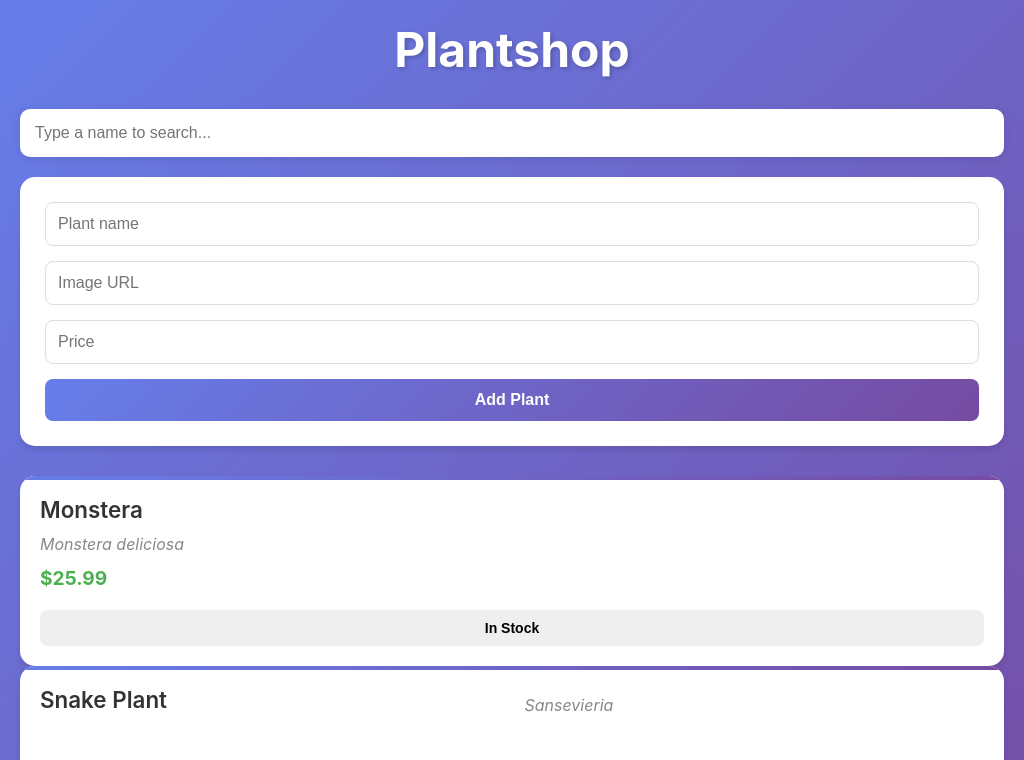
Test: App › creates a new plant
expect the heading "Monstera" is shown: met, box 40,496 -> 143,523
Type "Pothos" into the field with placeholder "Plant name" at (512, 224), box 45,202 -> 979,246
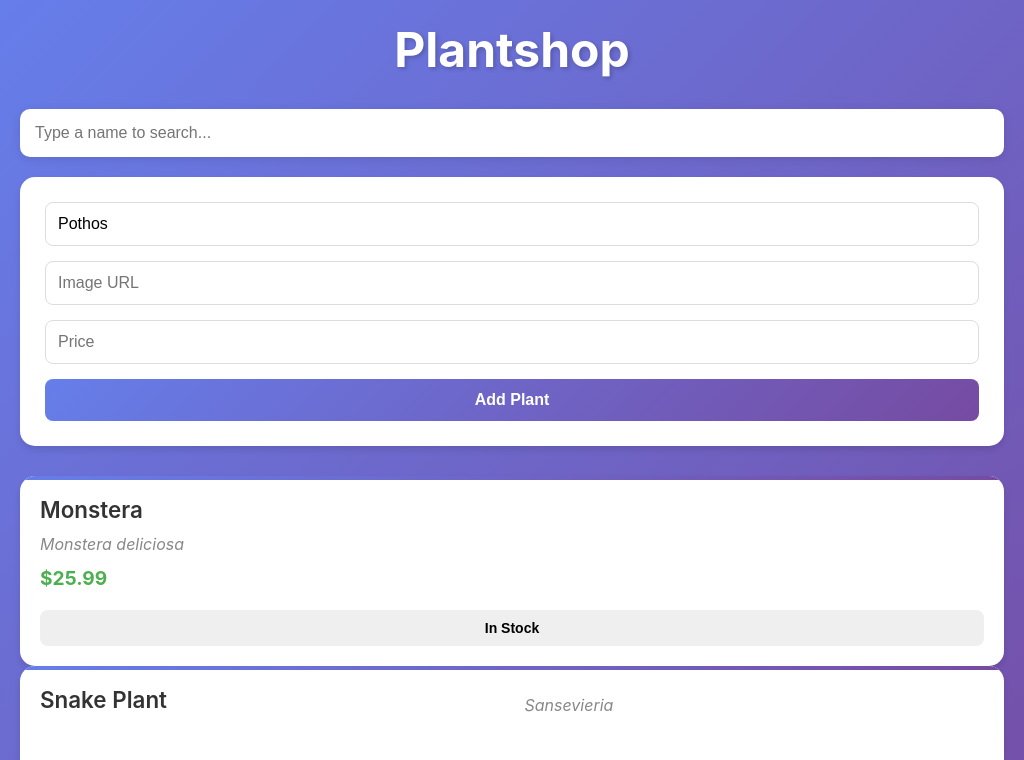
Type "12.99" into the field with placeholder "Price" at (512, 342), box 45,320 -> 979,364
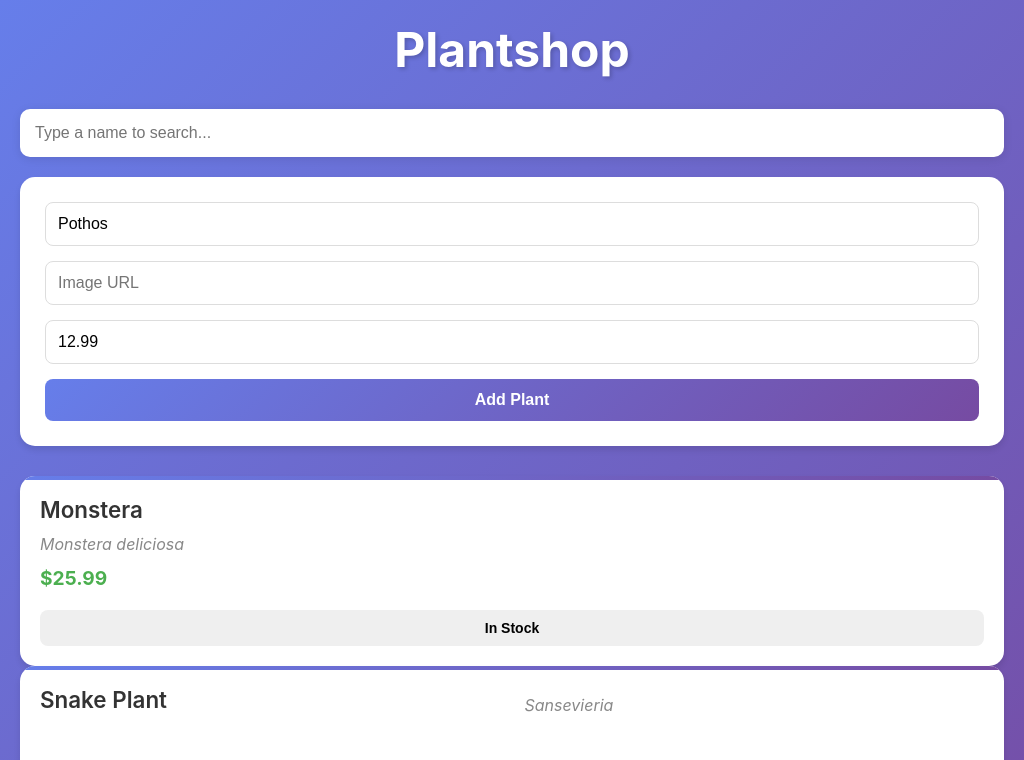
Click the button "Add Plant" at (512, 400), box 45,379 -> 979,421
(page scrolled)
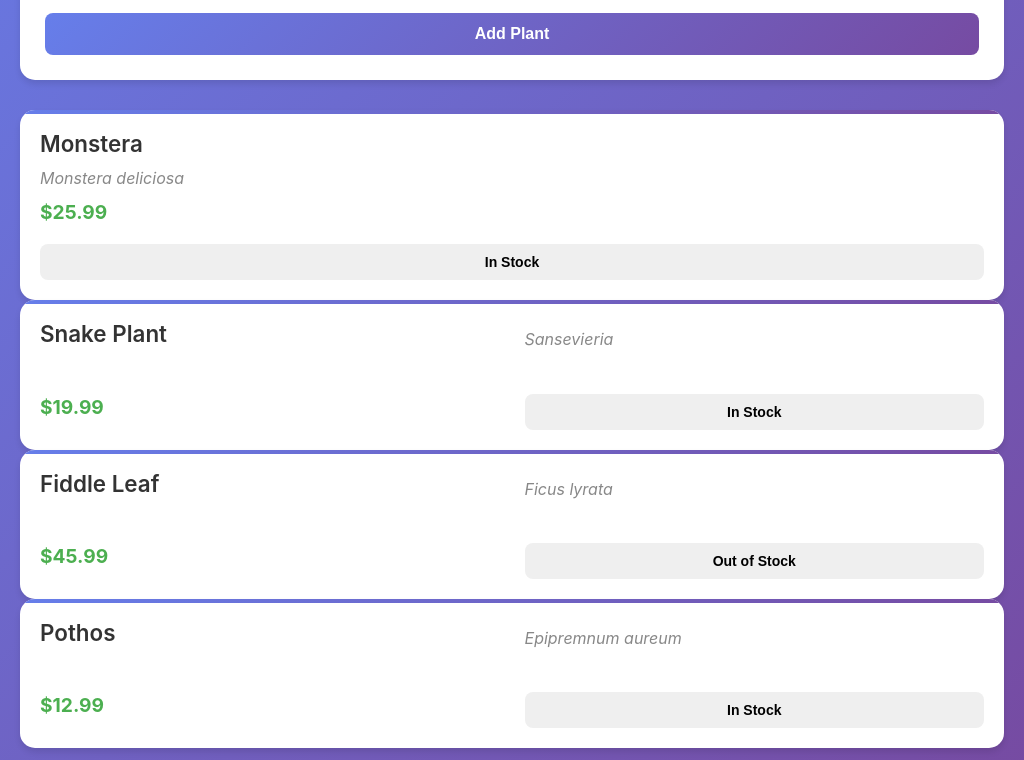
expect the heading "Pothos" is shown: met, box 40,619 -> 116,646
